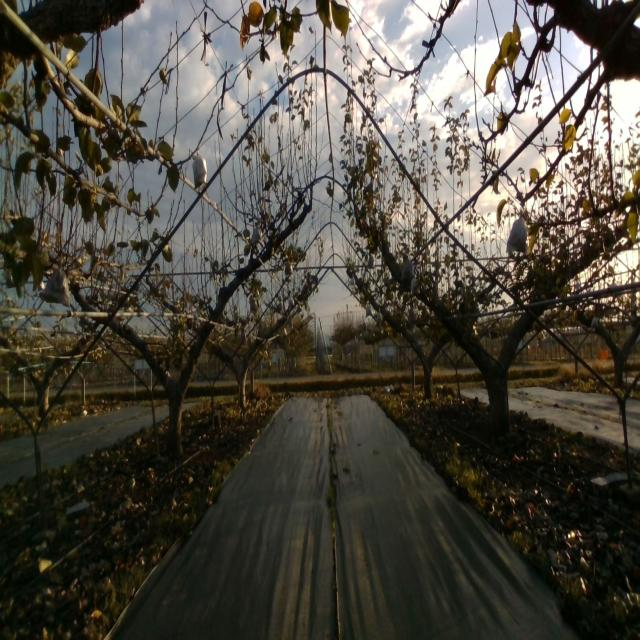pearbags: (506, 208, 528, 255), (192, 149, 208, 191), (250, 220, 265, 248), (401, 255, 413, 281)
